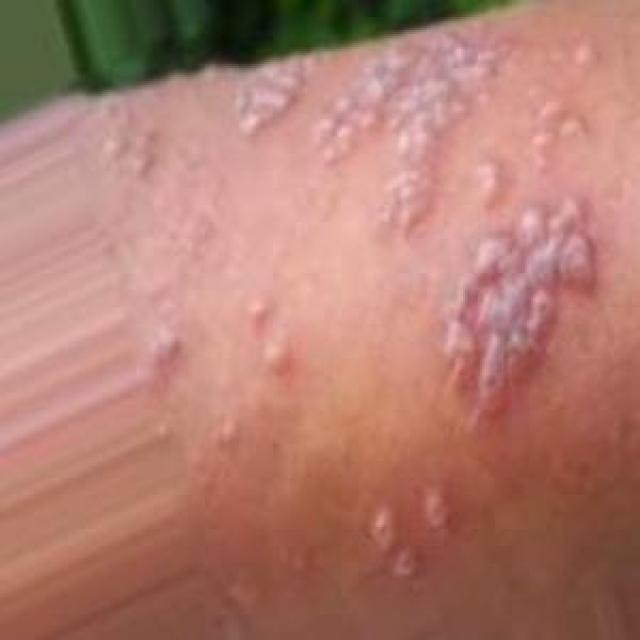Shingles: (320, 30, 510, 240), (443, 194, 594, 426), (236, 53, 312, 144), (371, 490, 448, 577)
